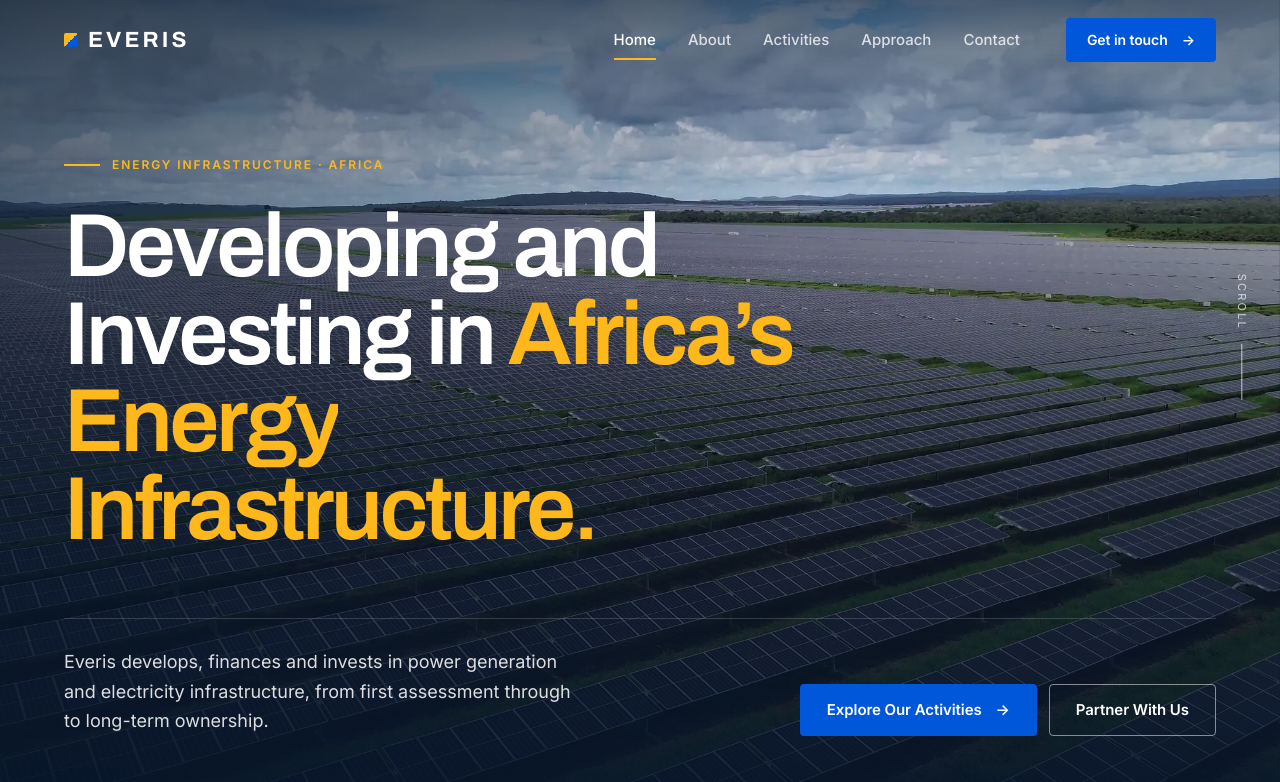
Scenario: navigation › moves between pages without reloading, marks the current page and focuses its heading
The image size is (1280, 782).
Click the link "Approach" at (896, 39), box [861,30,931,49]
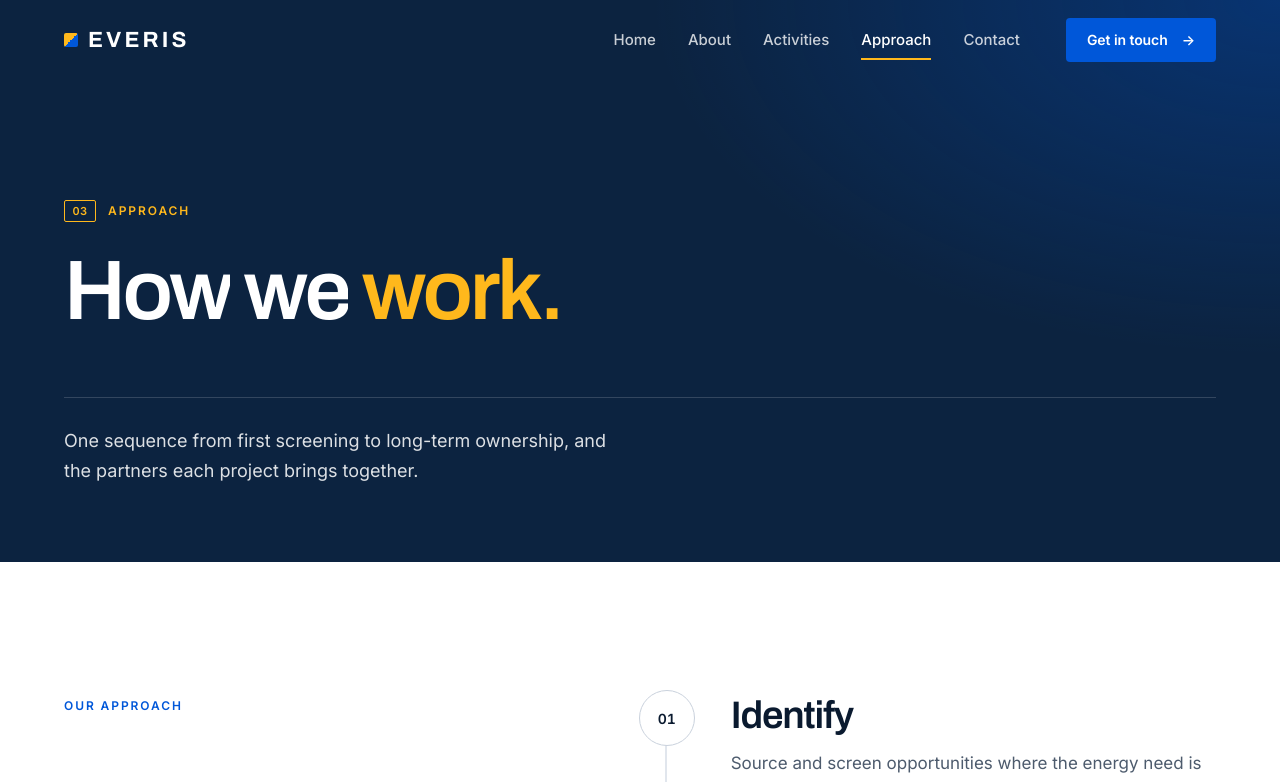
Now the heading "How we work." is shown, box [64,245,561,337]
